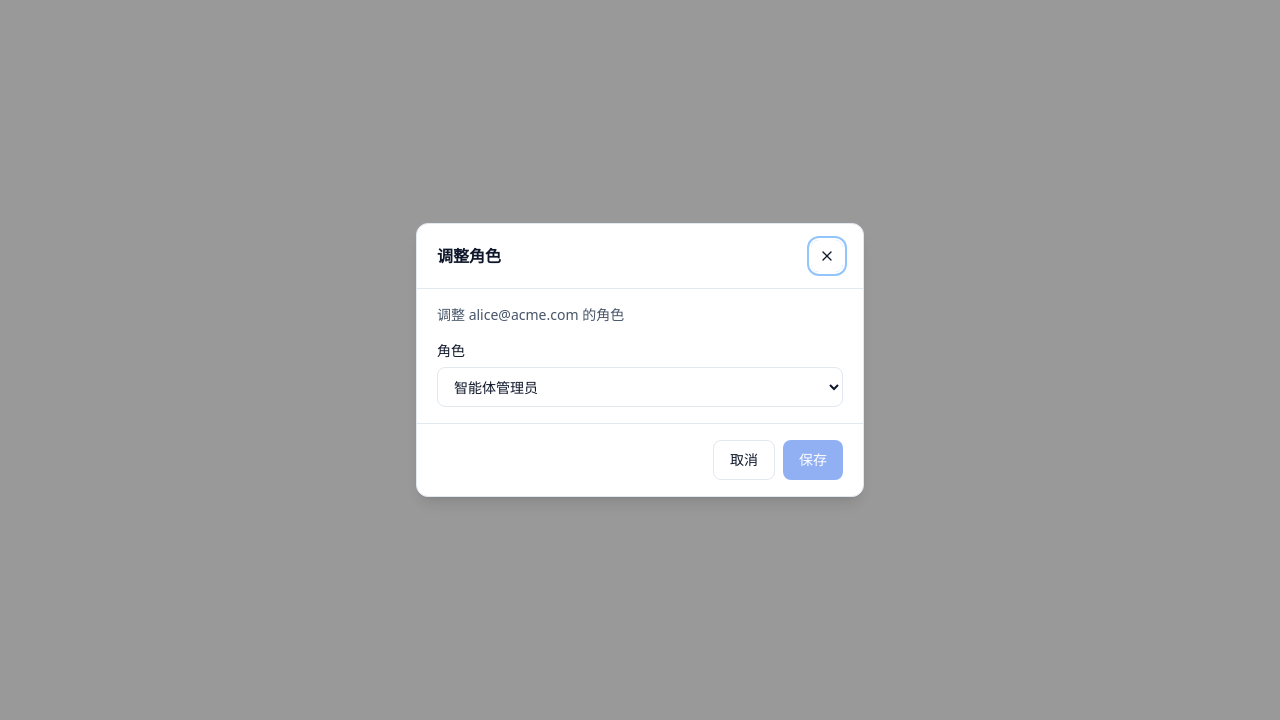
it: RoleChangeDialog › keeps the dialog open and names the last-administrator refusal on a demotion
Step 1. Select "员工" in the dropdown labelled "角色" → (640, 387), box [437,367,843,407]
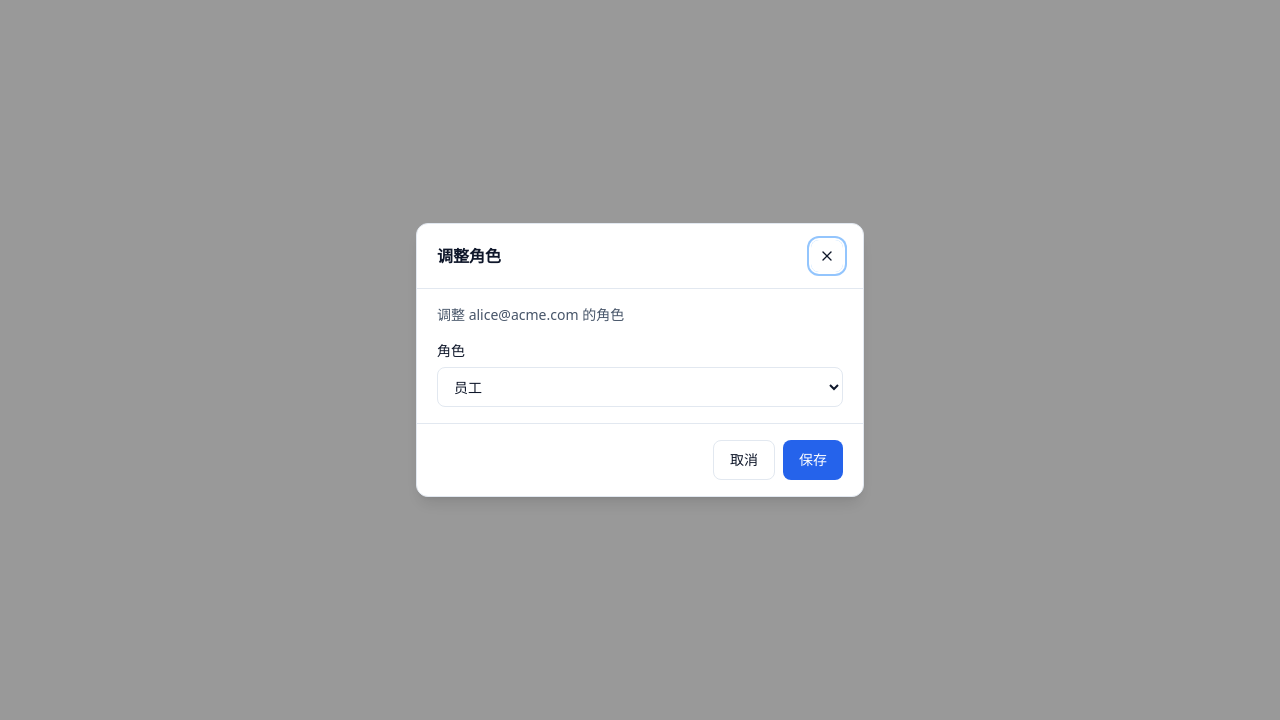
Step 2. Click the button "保存" → (813, 460), box [783,440,843,480]
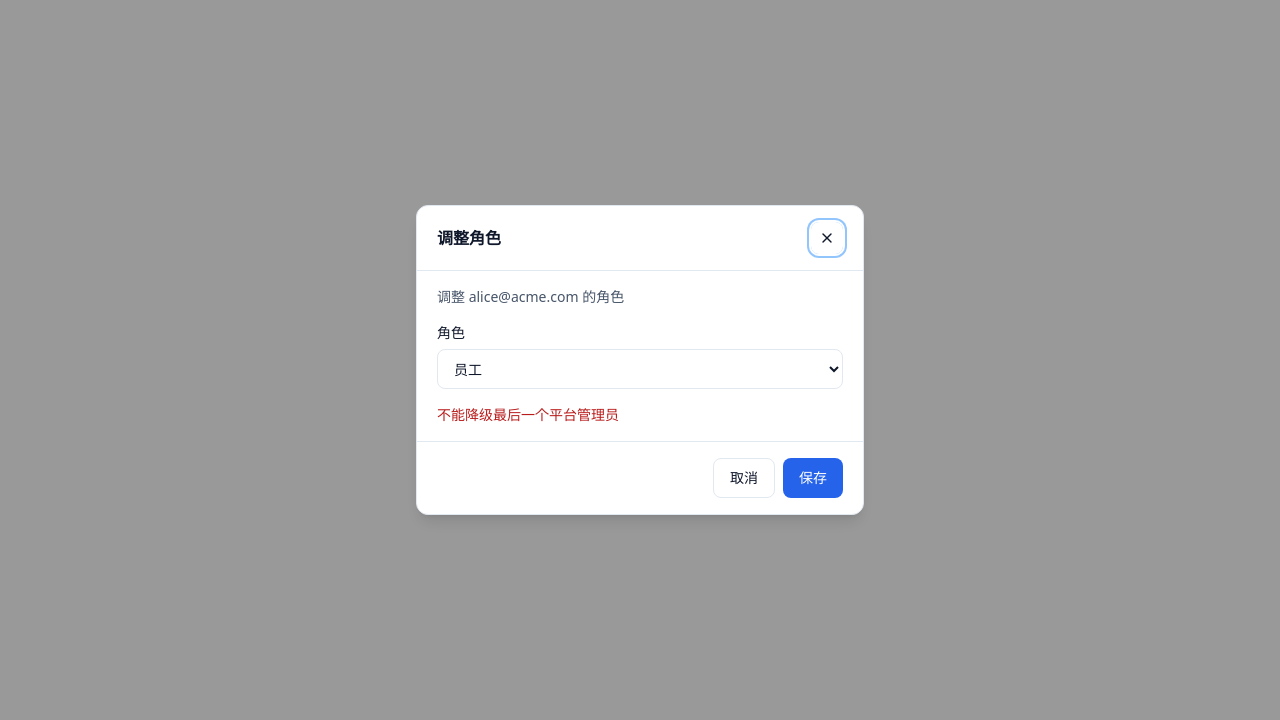
Result: the message reads "不能降级最后一个平台管理员" at [437,405,619,424]
